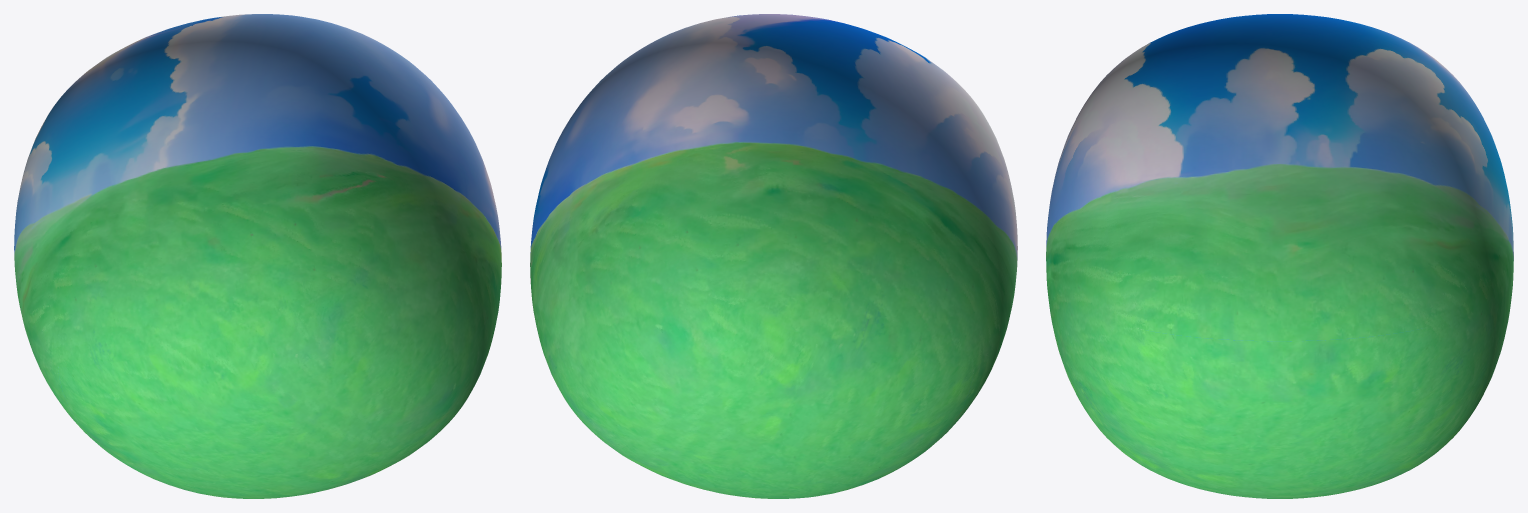
Rendered from Sky.glb.
3 renders of one model, left to right at view 1: azimuth 30°, elevation 25°; view 2: azimuth 150°, elevation 25°; view 3: azimuth 270°, elevation 25°, orthographic.
Visible parts, largest first — view 1: Cube; view 2: Cube; view 3: Cube.
Boxes of the visible parts, bbox=[...] form: Cube: bbox=[14, 14, 501, 498]; Cube: bbox=[530, 14, 1017, 498]; Cube: bbox=[1046, 14, 1513, 498].
Size of the model in its own units: 1573 by 1573 by 1573.
Materials: 1 (1 with a texture image).
